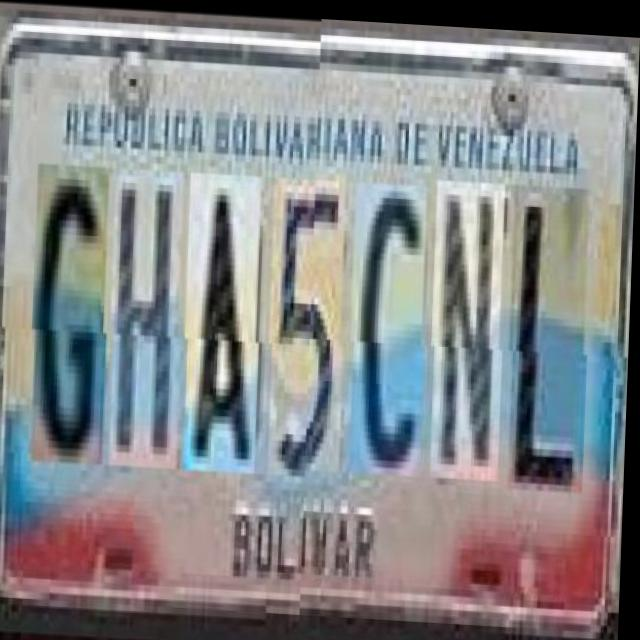5: (270, 173, 352, 475)
a: (186, 169, 267, 471)
c: (351, 185, 432, 478)
g: (35, 162, 114, 464)
h: (112, 166, 188, 467)
l: (510, 185, 594, 493)
n: (434, 181, 510, 482)
